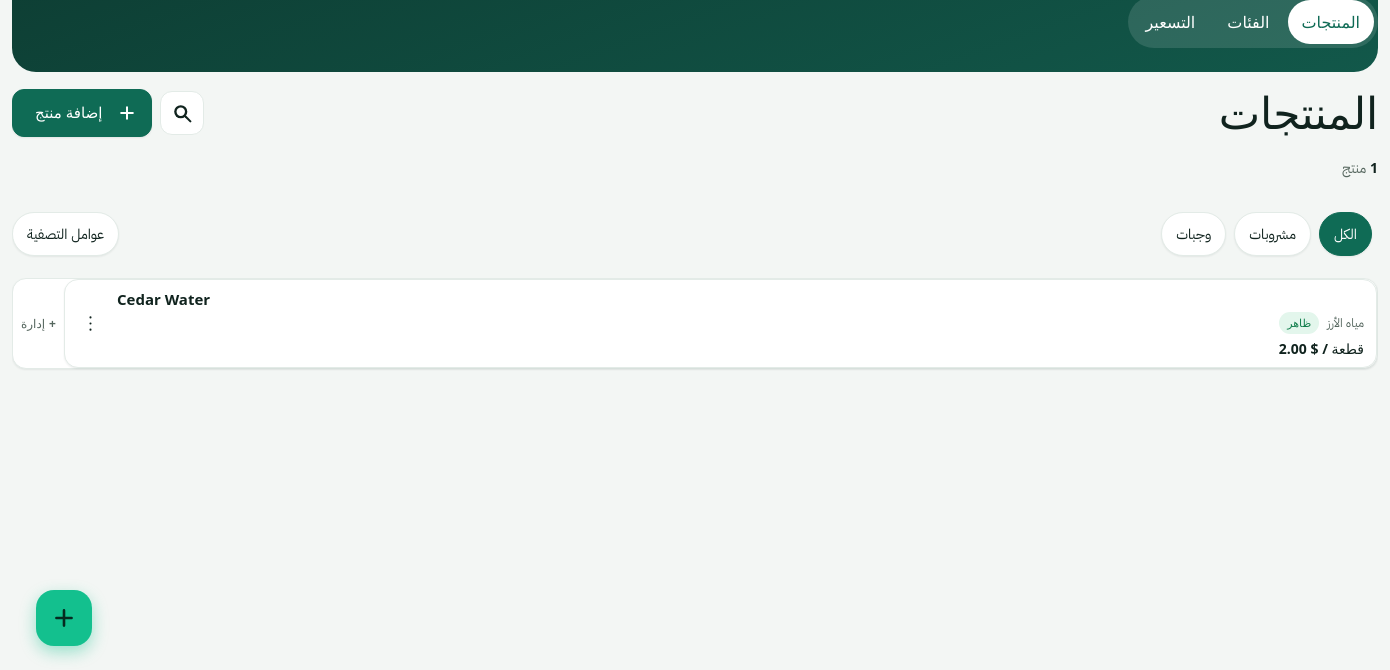
prices and grade prices translate ar/PIECE as قطعة
Expected: the text "Cedar Water" is shown, 117,289 -> 210,309
Expected: the element with class "list-row-amount" shows "/ قطعة", 1279,338 -> 1364,360
Click the button named "إجراءات أخرى لـ Cedar Water". click: {"x": 91, "y": 324}
box: 69,302 -> 113,346
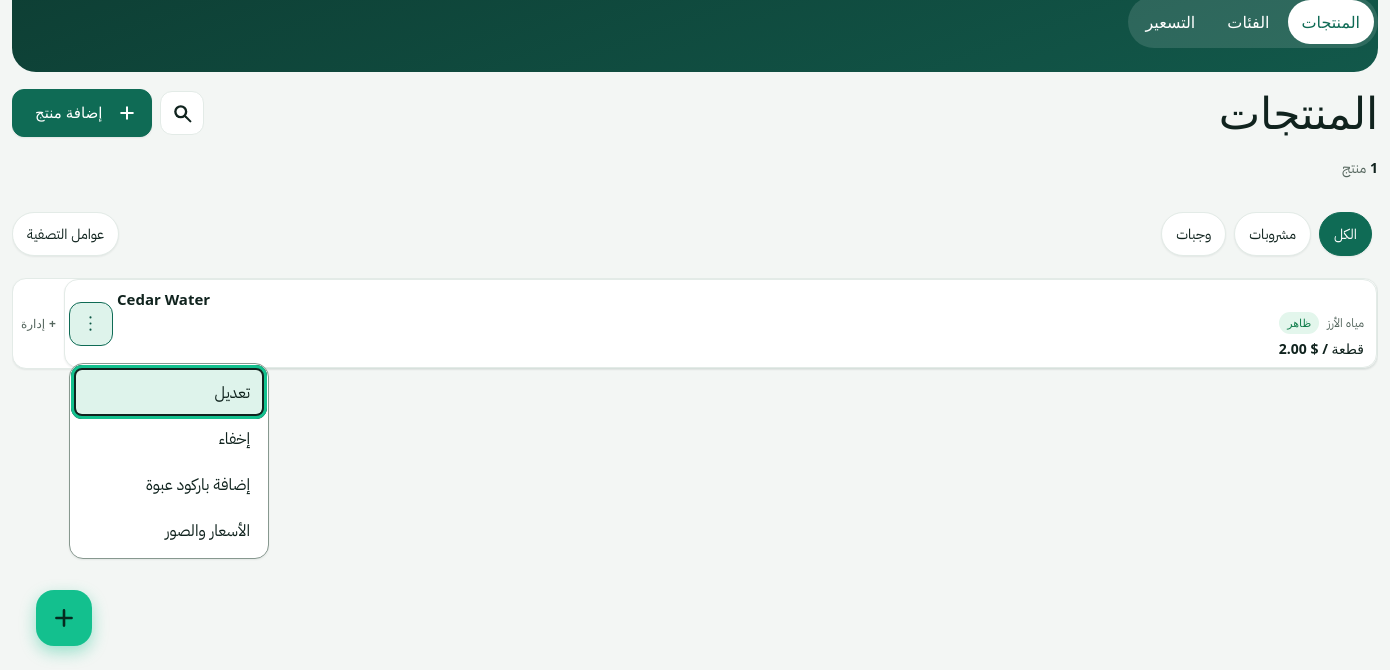
Click the button "الأسعار والصور". click: {"x": 169, "y": 530}
box: 76,508 -> 262,552
(page scrolled)
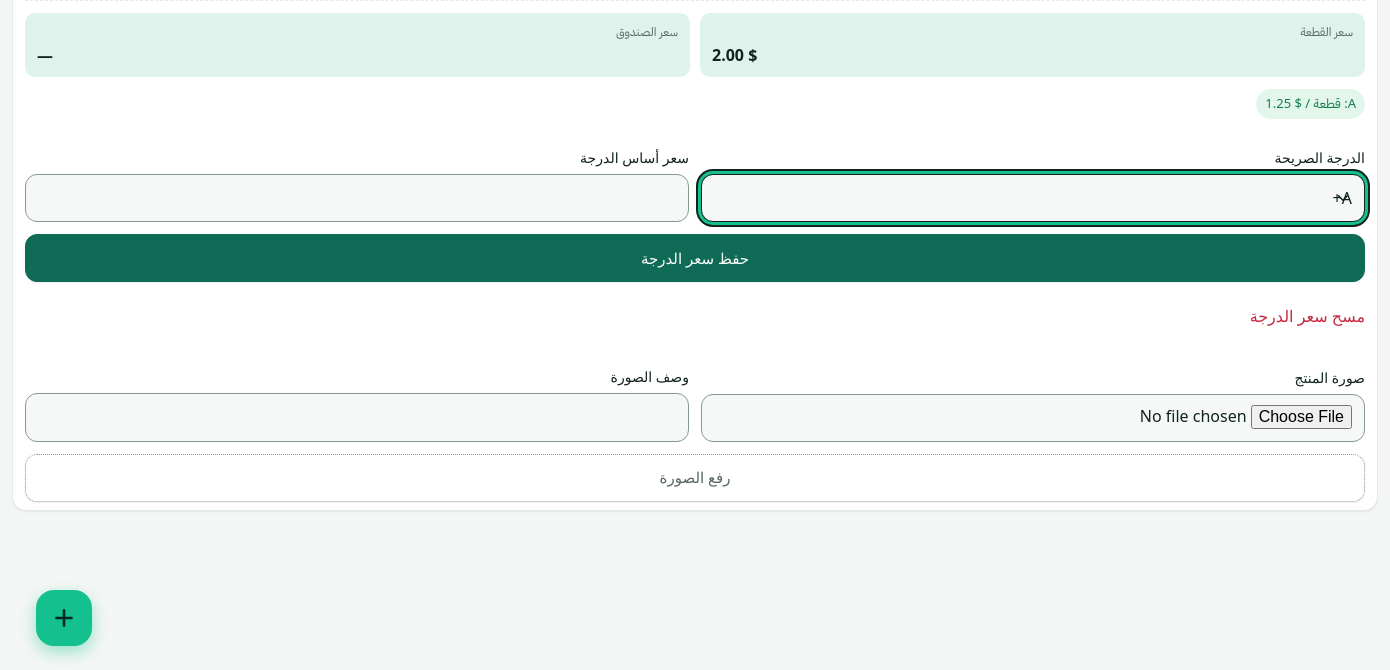
Expected: the element with class "grade-price-chips" does not show "PIECE", 1256,90 -> 1365,119
Expected: the element with class "grade-price-chips" shows "/ قطعة", 1256,90 -> 1365,119
